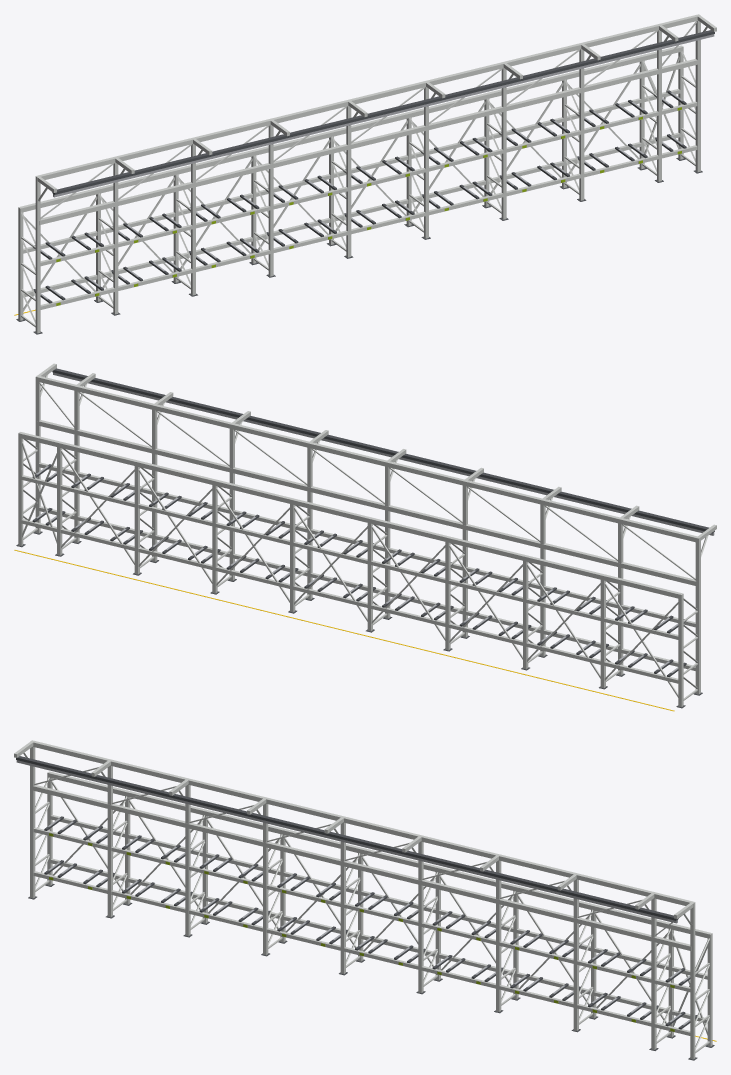
Rendered from pallet_rack_2L_17S.glb.
3 renders of one model, top to bottom at view 1: azimuth 30°, elevation 25°; view 2: azimuth 150°, elevation 25°; view 3: azimuth 330°, elevation 25°, orthographic.
Visible parts, largest first — view 1: rack_frame__truss_white, rack_frame__steel_dark, rack_frame__steel, rack_frame__lime; view 2: rack_frame__truss_white, rack_frame__steel_dark, rack_frame__steel, rack_frame__yellow; view 3: rack_frame__truss_white, rack_frame__steel_dark, rack_frame__steel, rack_frame__lime.
Part boxes in pixels (left/top/right/bottom): rack_frame__truss_white: left=18, top=14, right=716, bottom=333; rack_frame__steel_dark: left=16, top=30, right=714, bottom=334; rack_frame__steel: left=40, top=34, right=714, bottom=299; rack_frame__lime: left=56, top=107, right=681, bottom=305; rack_frame__truss_white: left=18, top=363, right=716, bottom=706; rack_frame__steel_dark: left=16, top=368, right=714, bottom=708; rack_frame__steel: left=36, top=372, right=714, bottom=673; rack_frame__yellow: left=14, top=550, right=674, bottom=711; rack_frame__truss_white: left=14, top=740, right=712, bottom=1059; rack_frame__steel_dark: left=16, top=756, right=714, bottom=1060; rack_frame__steel: left=16, top=760, right=690, bottom=1025; rack_frame__lime: left=49, top=833, right=674, bottom=1031.
Size of the model in its own units: 22.3 by 5 by 2.4.
